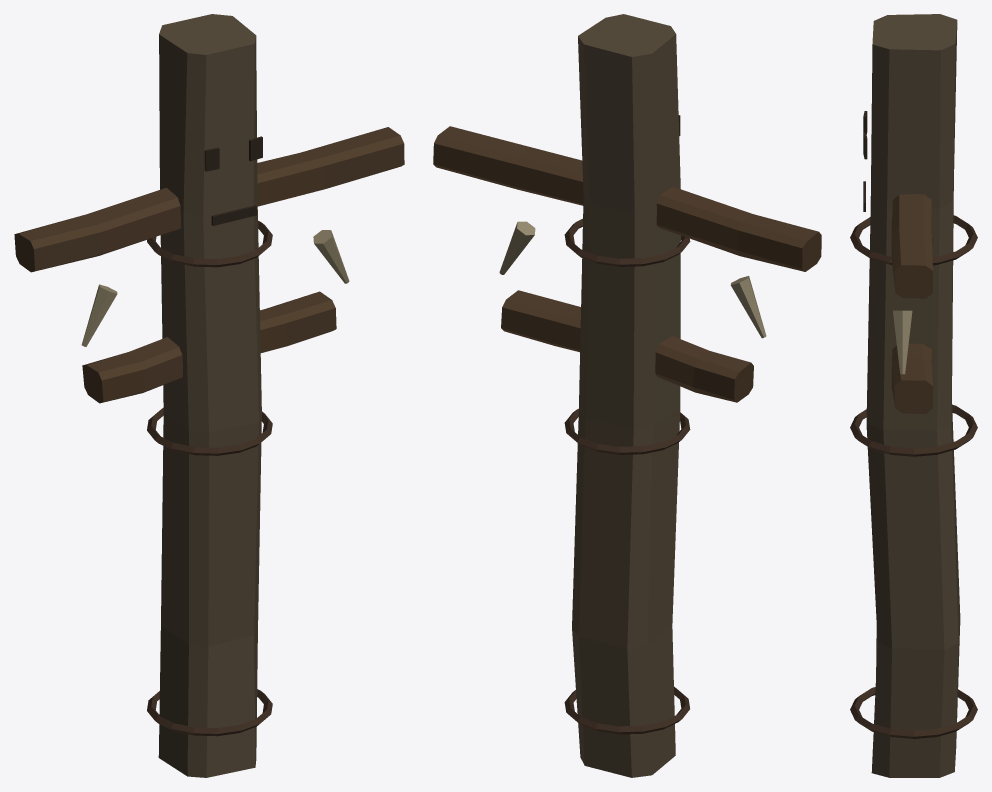
File: goblin-totem.glb
3 views of the same model, side by side, from view 1: azimuth 30°, elevation 25°; view 2: azimuth 150°, elevation 25°; view 3: azimuth 270°, elevation 25° (orthographic).
Parts seen in each view (by area): view 1: Wood, Stone; view 2: Wood, Stone; view 3: Wood, Stone.
Part boxes in pixels (left/top/right/bottom): Wood: left=14, top=14, right=404, bottom=777; Stone: left=81, top=230, right=349, bottom=346; Wood: left=433, top=14, right=821, bottom=777; Stone: left=499, top=221, right=766, bottom=338; Wood: left=850, top=14, right=977, bottom=777; Stone: left=893, top=310, right=912, bottom=374.
Size of the model in its own units: 0.7625 by 1.42 by 0.226.
